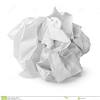crumpled paper: (6, 3, 95, 92)
